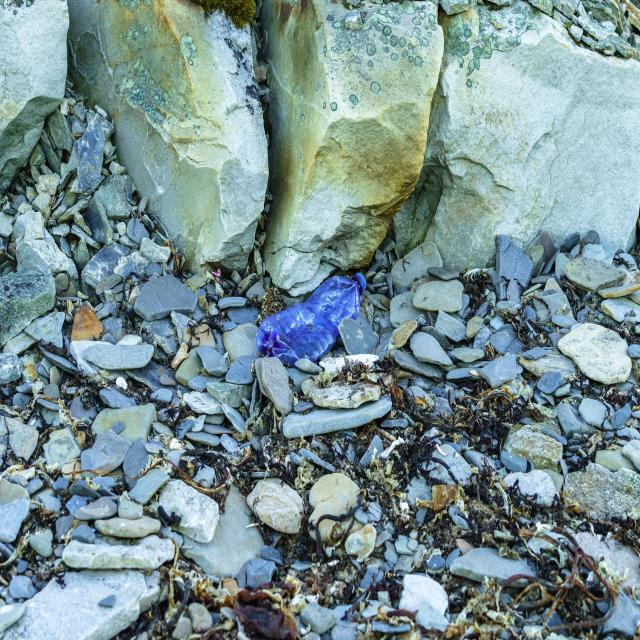litter: (354, 273, 366, 292)
